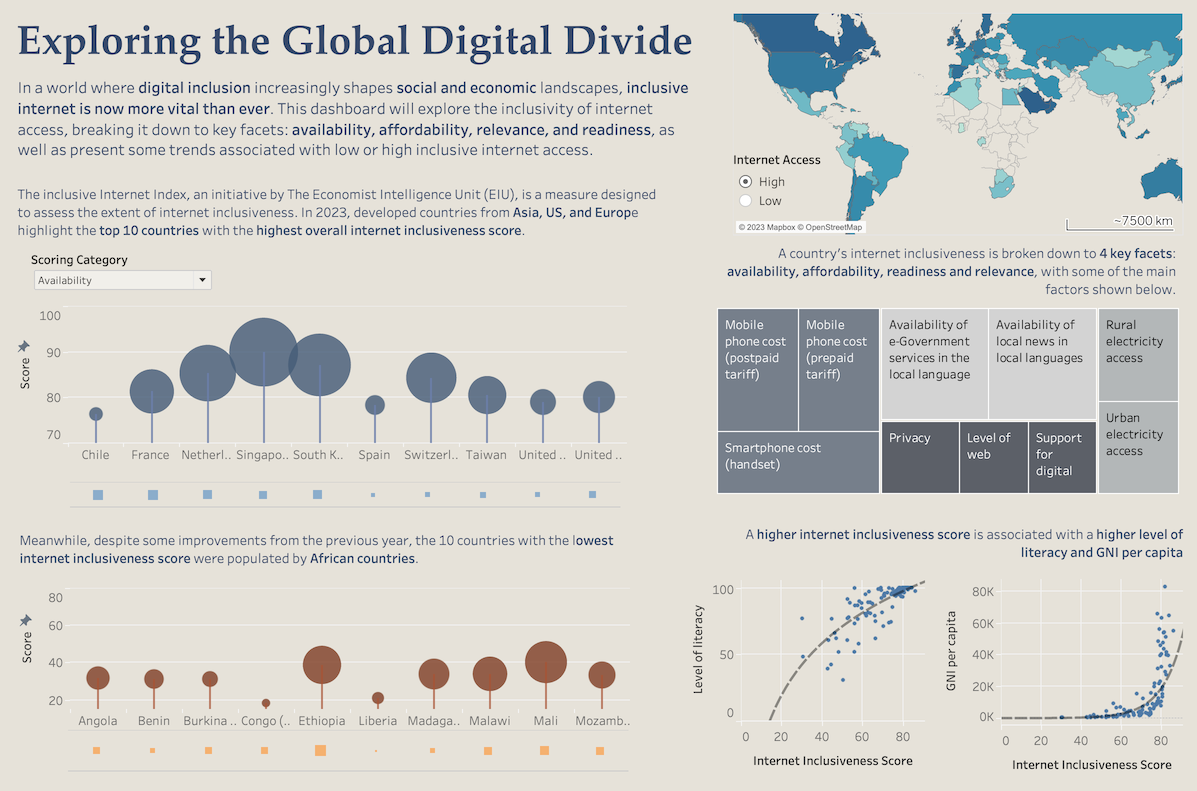

The dashboard page shown, as its layout file describes it:
{"tool":"tableau","page":{"name":"Dashboard","canvas":[1200,800],"ordinal":0},"visuals":[{"type":"worksheet","title":"Clustering Countries","mark":"Automatic","box":[735,11,451,238]},{"type":"text","box":[16,16,776,80]},{"type":"text","box":[17,63,677,138]},{"type":"filter","title":"Clustering Countries","param":"[federated.12bufgz1gmfm4v113b3s31eg7jcj].[Country (clusters)]","box":[735,164,110,70]},{"type":"text","box":[17,183,652,84]},{"type":"text","box":[712,248,469,71]},{"type":"filter","title":"Top 10 Countries","param":"[federated.069acpx0q6404h1aoqrjp1p5ppof].[none:Category (Sheet3):nk]","box":[33,264,184,40]},{"type":"worksheet","title":"Factors","mark":"Automatic","box":[714,301,474,211]},{"type":"worksheet","title":"Top 10 Countries","mark":"Circle","rows":["Score","Score"],"cols":["Country"],"box":[11,304,618,173]},{"type":"worksheet","title":"Top 10 Countries Growth","mark":"Automatic","cols":["Country"],"box":[72,480,574,46]},{"type":"text","box":[19,520,618,84]},{"type":"text","box":[719,520,469,71]},{"type":"worksheet","title":"GNI per Capita","mark":"Automatic","rows":["GNI per capita"],"cols":["Overall score"],"box":[937,577,248,216]},{"type":"worksheet","title":"Level of Literacy","mark":"Automatic","rows":["Level of literacy"],"cols":["Overall score"],"box":[684,578,243,211]},{"type":"worksheet","title":"Lowest 10 Countries","mark":"Circle","rows":["Score","Score"],"cols":["Country"],"box":[13,586,619,156]},{"type":"worksheet","title":"Lowest 10 Countries Growth","mark":"Automatic","cols":["Country"],"box":[70,728,567,70]}]}

Visuals, with their boxes in screenshot pixels (x1, y1, x2, y2), scaled from the page's 1200x800 canvas onto the 1197x791 screenshot:
"Clustering Countries" worksheet: l=733, t=11, r=1183, b=246
text: l=16, t=16, r=790, b=95
text: l=17, t=62, r=692, b=199
"Clustering Countries" filter: l=733, t=162, r=843, b=231
text: l=17, t=181, r=667, b=264
text: l=710, t=245, r=1178, b=315
"Top 10 Countries" filter: l=33, t=261, r=216, b=301
"Factors" worksheet: l=712, t=298, r=1185, b=506
"Top 10 Countries" worksheet (Circle marks): l=11, t=301, r=627, b=472
"Top 10 Countries Growth" worksheet: l=72, t=475, r=644, b=520
text: l=19, t=514, r=635, b=597
text: l=717, t=514, r=1185, b=584
"GNI per Capita" worksheet: l=935, t=571, r=1182, b=784
"Level of Literacy" worksheet: l=682, t=571, r=925, b=780
"Lowest 10 Countries" worksheet (Circle marks): l=13, t=579, r=630, b=734
"Lowest 10 Countries Growth" worksheet: l=70, t=720, r=635, b=789
